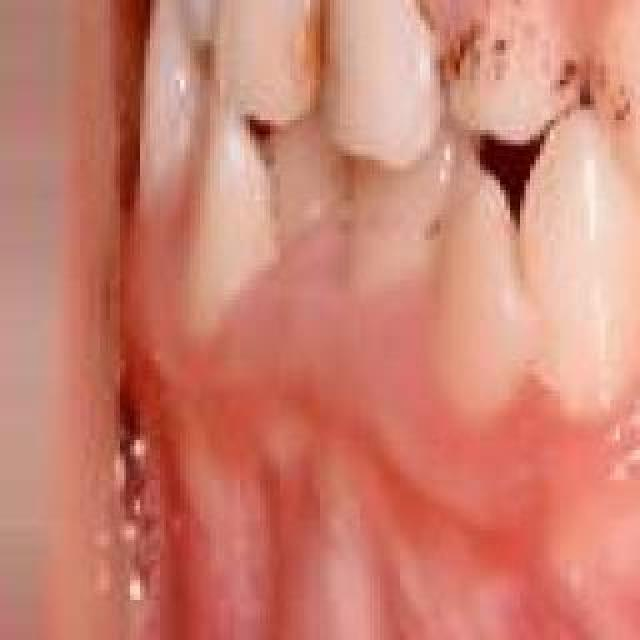maligned: (520, 88, 640, 426), (414, 147, 530, 419), (179, 52, 273, 352), (332, 119, 448, 301), (126, 0, 210, 242), (450, 0, 582, 144), (245, 86, 347, 236), (174, 0, 232, 34)
stains: (302, 0, 460, 140), (440, 0, 550, 100), (565, 40, 635, 130)
